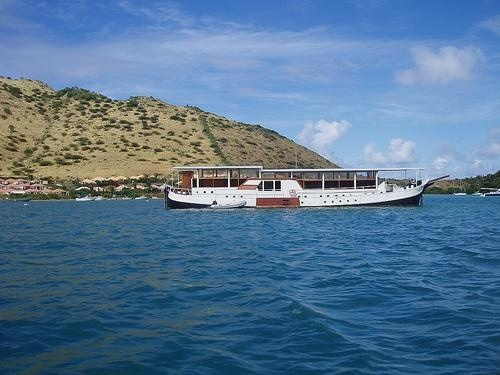boat: (164, 165, 450, 210)
